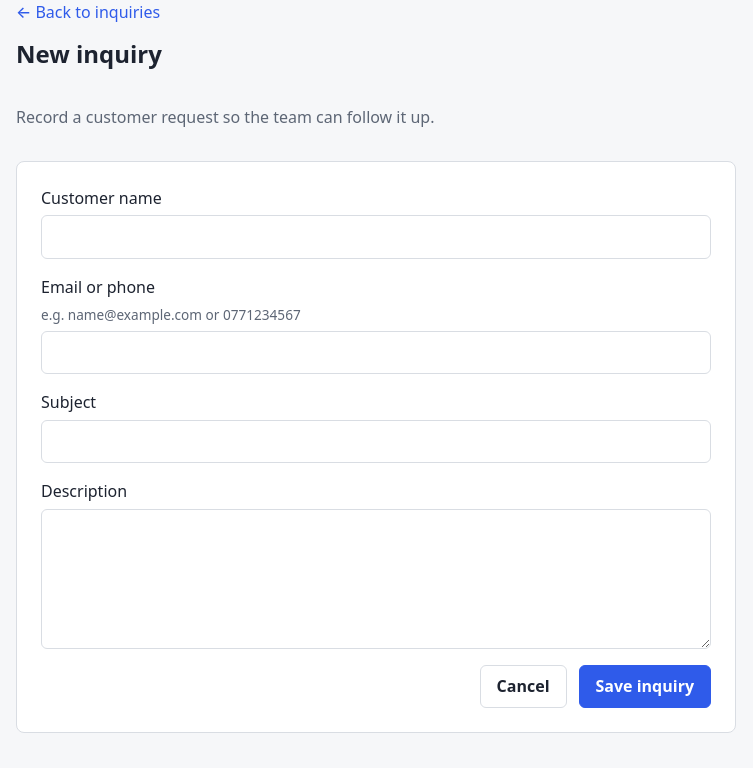
Test: shows the server message when the inquiry is a duplicate, and lets the user try again
The image size is (753, 768).
Type "Kamal Jayasinghe" into the field labelled "Customer name" at (376, 237), box [41,215,711,259]
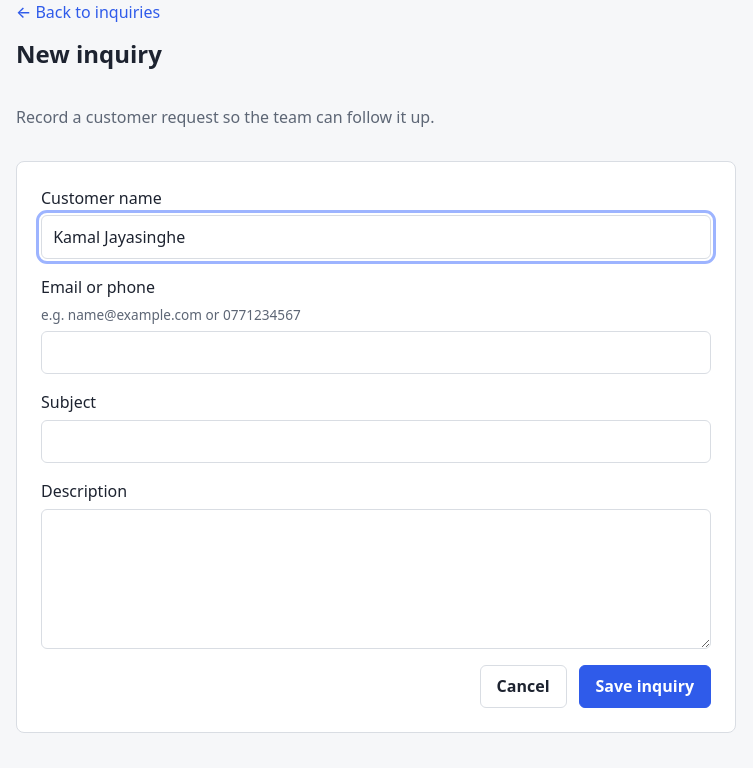
Type "kamal@example.com" into the field labelled "Email or phone" at (376, 352), box [41,331,711,374]
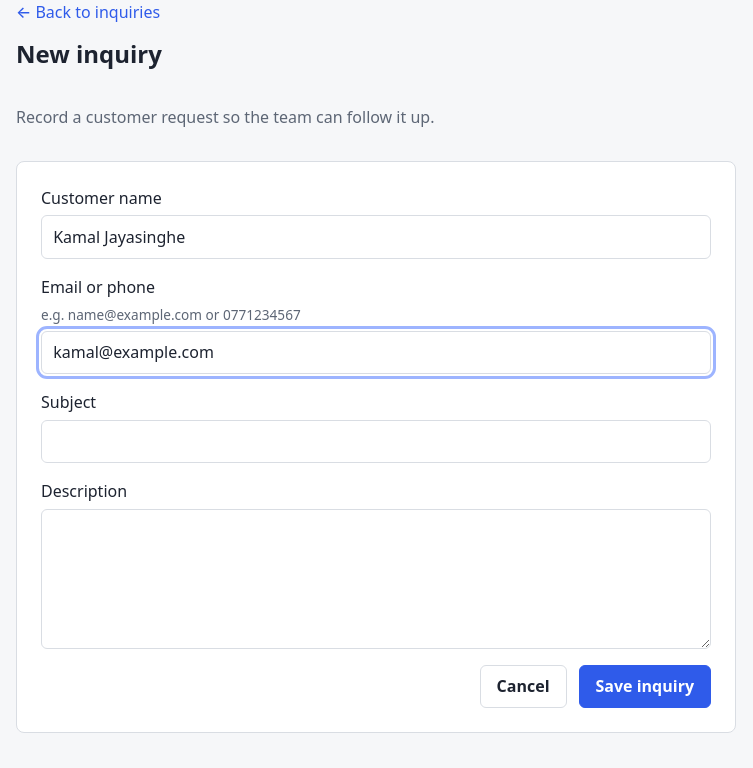
Type "Delivery delay" into the field labelled "Subject" at (376, 442), box [41,420,711,463]
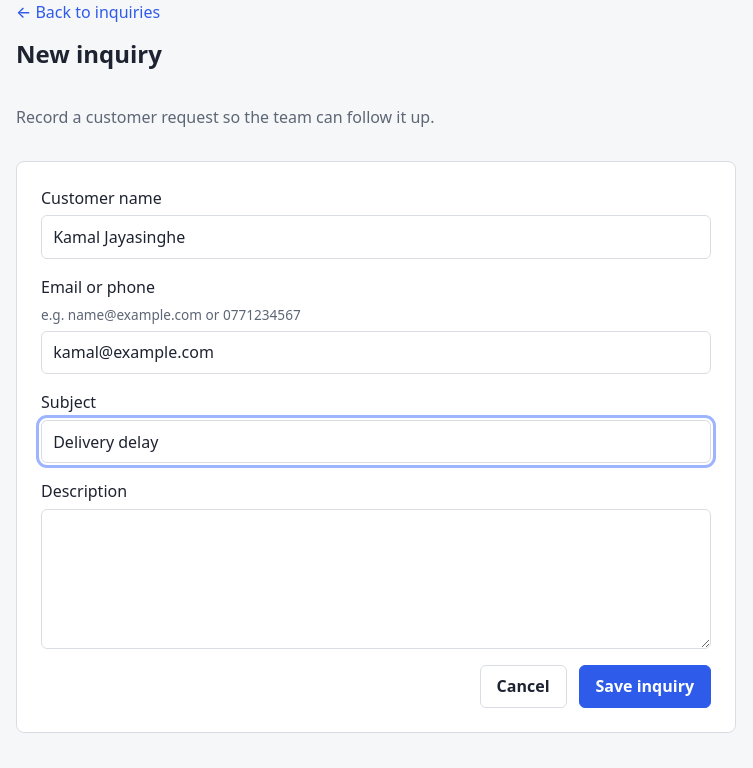
Type "Still waiting for order 1042." into the text box labelled "Description" at (376, 579), box [41,509,711,648]
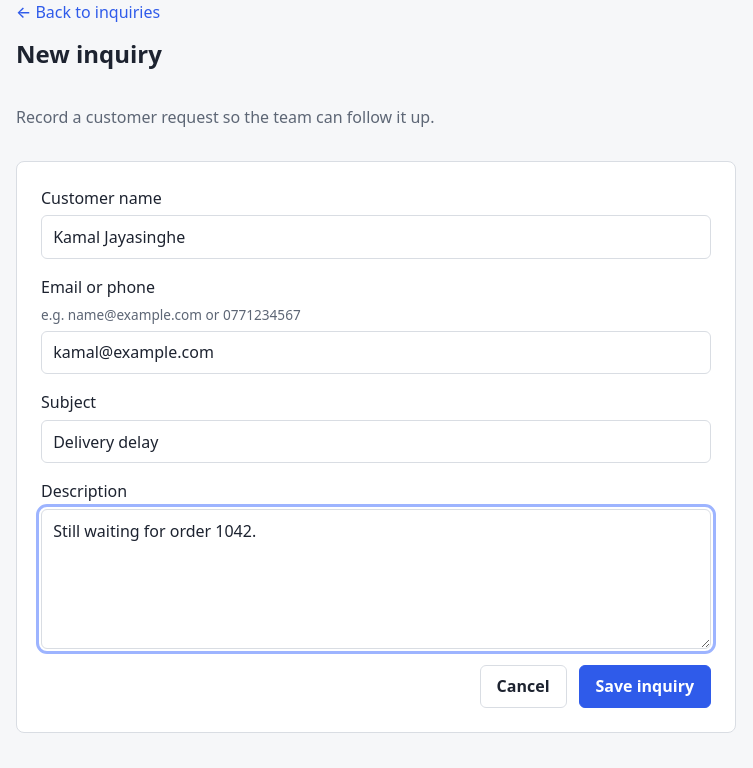
Click the button "Save inquiry" at (645, 686), box [578,664,711,708]
(page scrolled)
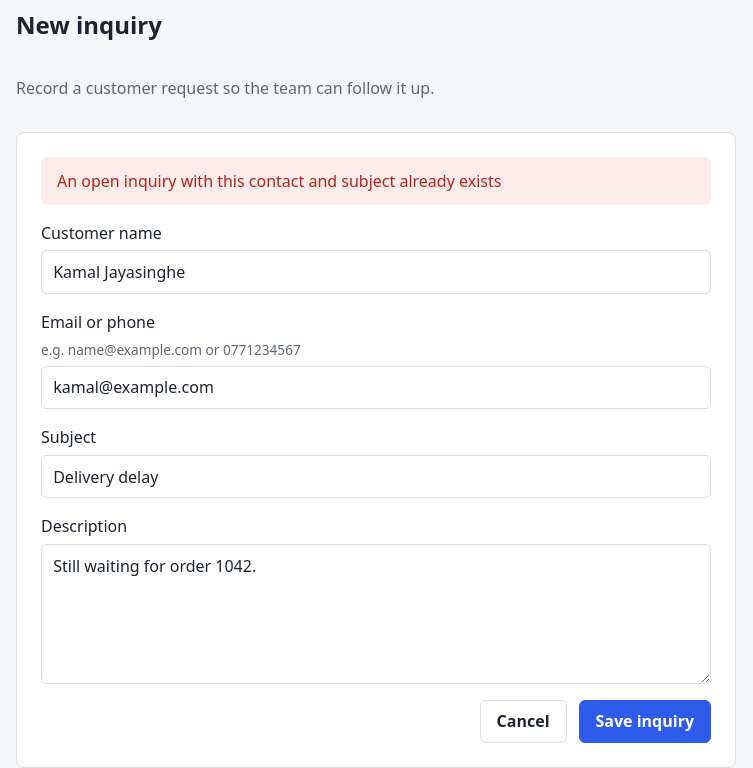
Expected: the button "Save inquiry" is enabled, [578,700,711,743]
Expected: the message shows "already exists", [57,170,501,192]
